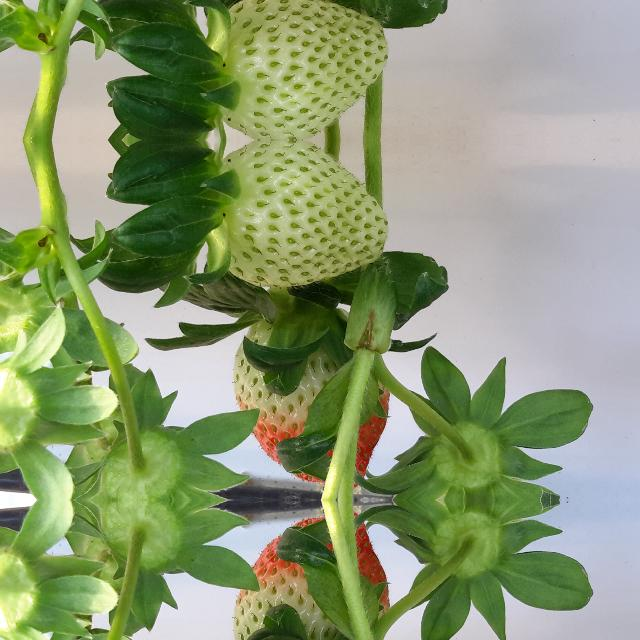Health_25: (224, 141, 388, 283), (223, 0, 388, 139)
Health_75: (223, 304, 401, 496), (223, 504, 401, 640)
